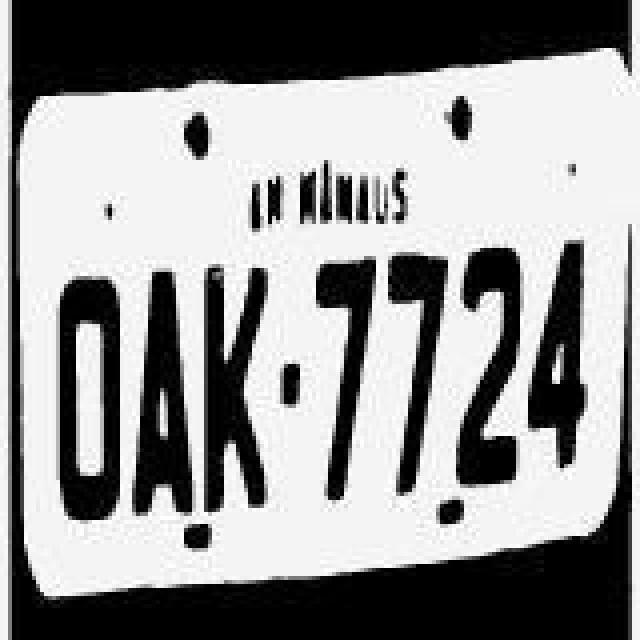2: (454, 226, 530, 494)
4: (526, 234, 594, 486)
7: (382, 234, 458, 502), (306, 240, 382, 504)
A: (128, 266, 200, 534)
K: (194, 252, 270, 516)
O: (46, 270, 130, 530)
